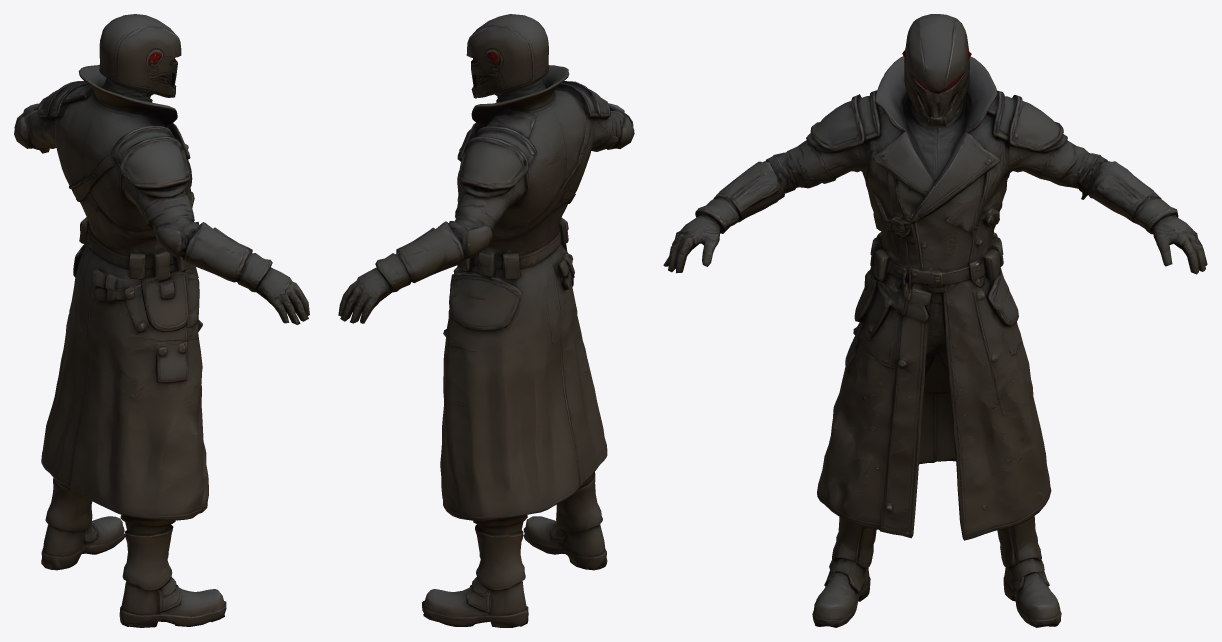
File: hunter.glb
3 renders of one model, left to right at view 1: azimuth 30°, elevation 25°; view 2: azimuth 150°, elevation 25°; view 3: azimuth 270°, elevation 25°, orthographic. The views are drawn at different scales.
Visible parts, largest first — view 1: tripo_node_2298c8d7-cd7b-4334-9bd9-08317fd7ef55; view 2: tripo_node_2298c8d7-cd7b-4334-9bd9-08317fd7ef55; view 3: tripo_node_2298c8d7-cd7b-4334-9bd9-08317fd7ef55.
Boxes of the visible parts, box(x1,y1,x2,y2) form: tripo_node_2298c8d7-cd7b-4334-9bd9-08317fd7ef55: box(14, 14, 309, 627); tripo_node_2298c8d7-cd7b-4334-9bd9-08317fd7ef55: box(338, 14, 634, 627); tripo_node_2298c8d7-cd7b-4334-9bd9-08317fd7ef55: box(663, 14, 1207, 627).
Size of the model in its own units: 0.227 by 1 by 0.83.
Materials: 1 (1 with a texture image).
